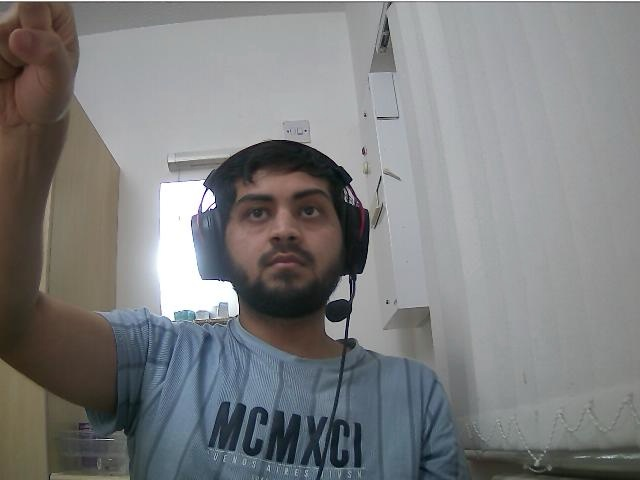hold: (1, 1, 80, 119)
